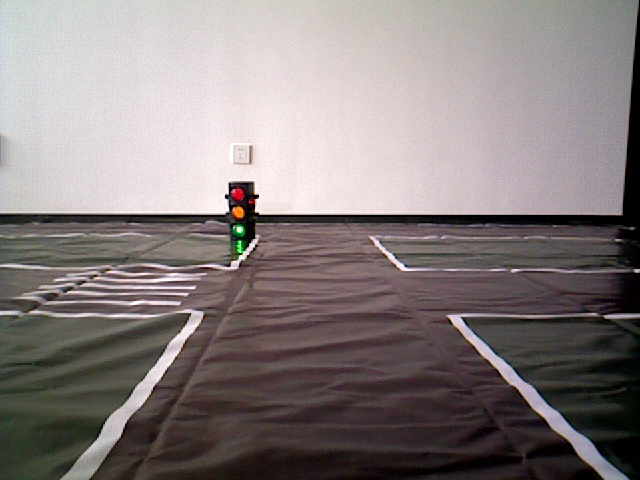green: (229, 182, 249, 234)
